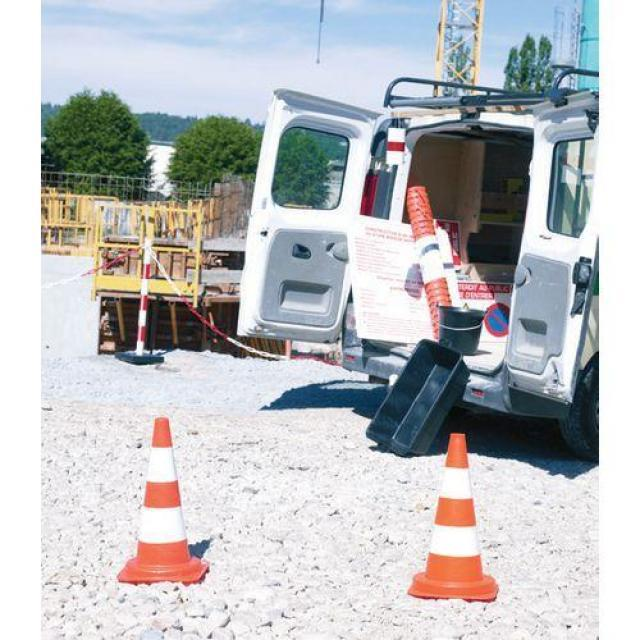Cone: (394, 432, 499, 592), (120, 412, 215, 588)
